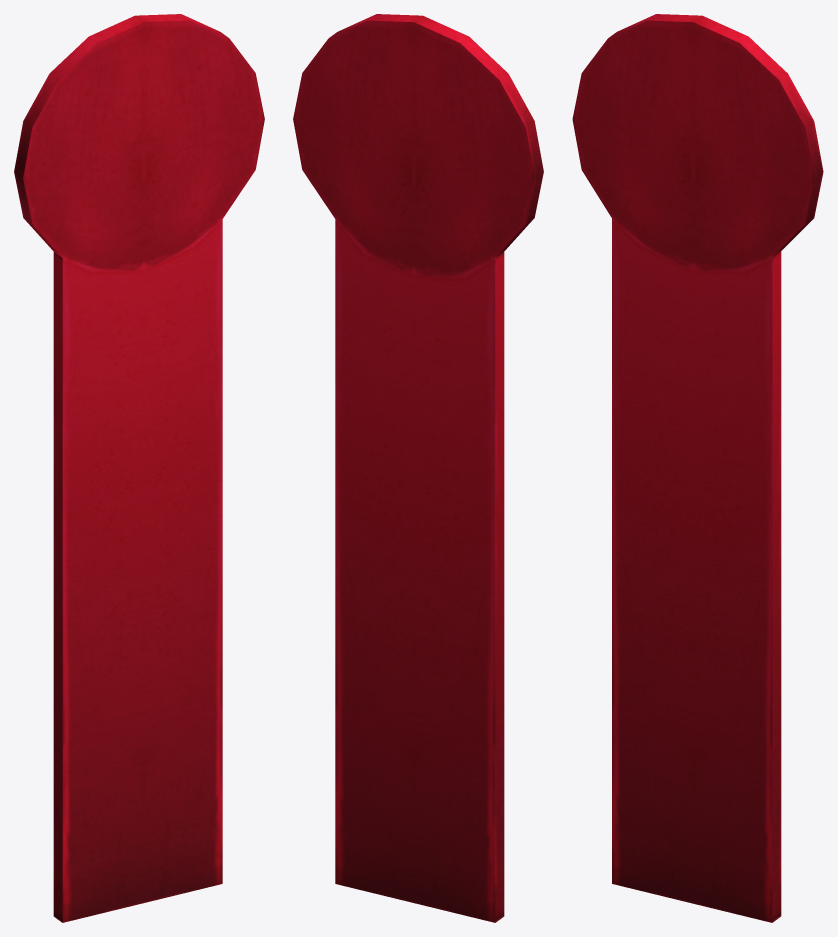
3 views of the same model, side by side, from view 1: azimuth 30°, elevation 25°; view 2: azimuth 150°, elevation 25°; view 3: azimuth 330°, elevation 25° (orthographic).
Visible parts, largest first — view 1: Object43; view 2: Object43; view 3: Object43.
Part boxes in pixels (<box>): Object43: <box>14,14,264,922</box>; Object43: <box>293,14,543,922</box>; Object43: <box>572,14,823,922</box>.
Bounding box in the file's own units: 7.94 × 0.5097 × 27.64.
